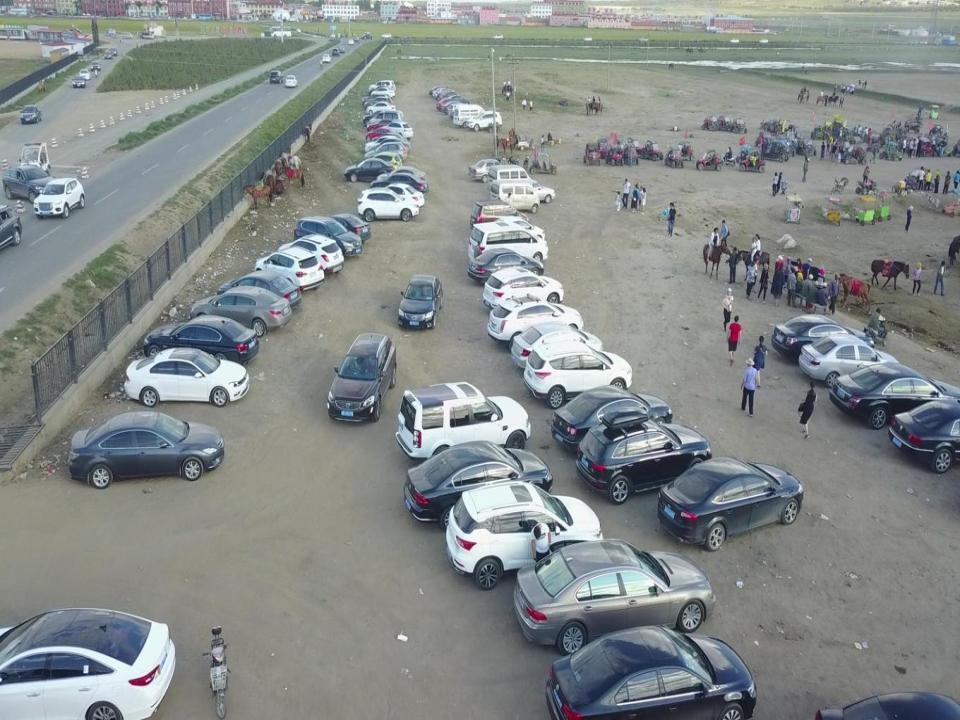car: (543, 625, 760, 720), (514, 539, 716, 640), (0, 604, 176, 719), (446, 483, 604, 585), (657, 456, 804, 552), (405, 440, 554, 528), (577, 408, 711, 502), (69, 406, 225, 483), (397, 382, 530, 462), (829, 362, 960, 430), (553, 384, 675, 453), (124, 347, 250, 406), (523, 342, 633, 406), (326, 331, 398, 422), (143, 314, 259, 366), (800, 334, 903, 389), (191, 284, 292, 336), (772, 314, 874, 364), (512, 322, 605, 371), (491, 296, 582, 344), (484, 266, 562, 312), (217, 271, 301, 313), (255, 245, 323, 291), (294, 216, 365, 259), (276, 234, 343, 275), (468, 250, 544, 286), (358, 187, 419, 223), (2, 165, 57, 203), (33, 177, 85, 217), (315, 211, 370, 246), (488, 216, 543, 251), (368, 182, 426, 210), (370, 173, 428, 201), (468, 158, 517, 184), (343, 159, 395, 183), (505, 180, 556, 204), (377, 166, 426, 190), (19, 142, 49, 178), (365, 141, 406, 164), (366, 138, 410, 158), (364, 153, 401, 175), (382, 121, 412, 140), (365, 127, 398, 143), (367, 120, 400, 134), (19, 105, 42, 125), (285, 74, 297, 88), (270, 70, 283, 82)
van: (468, 221, 548, 268), (471, 200, 530, 233), (490, 183, 538, 214), (488, 166, 532, 195)
